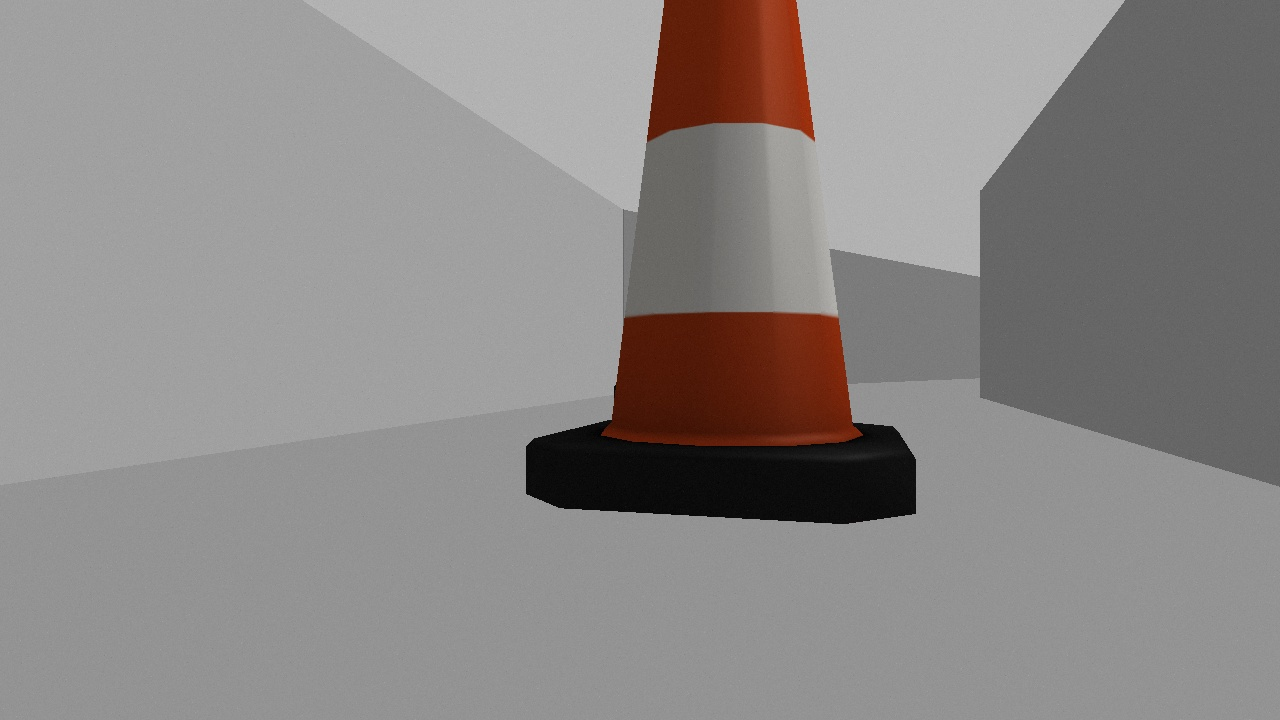barricade: (527, 1, 918, 524)
